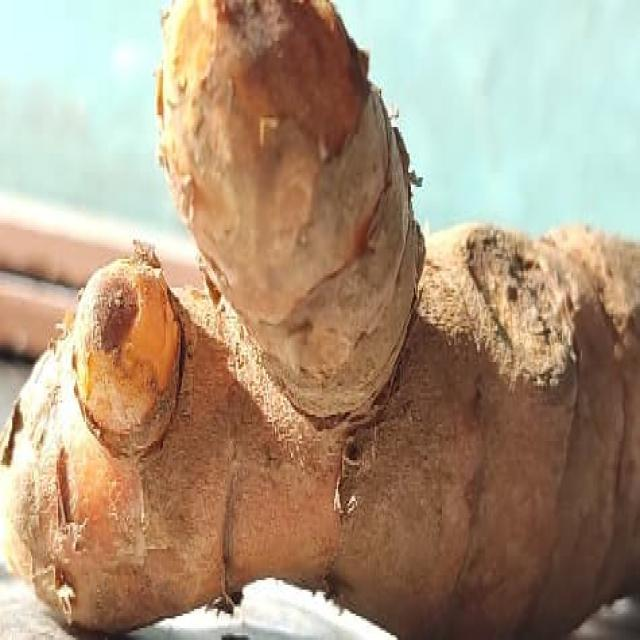ginger: (27, 26, 640, 640)
